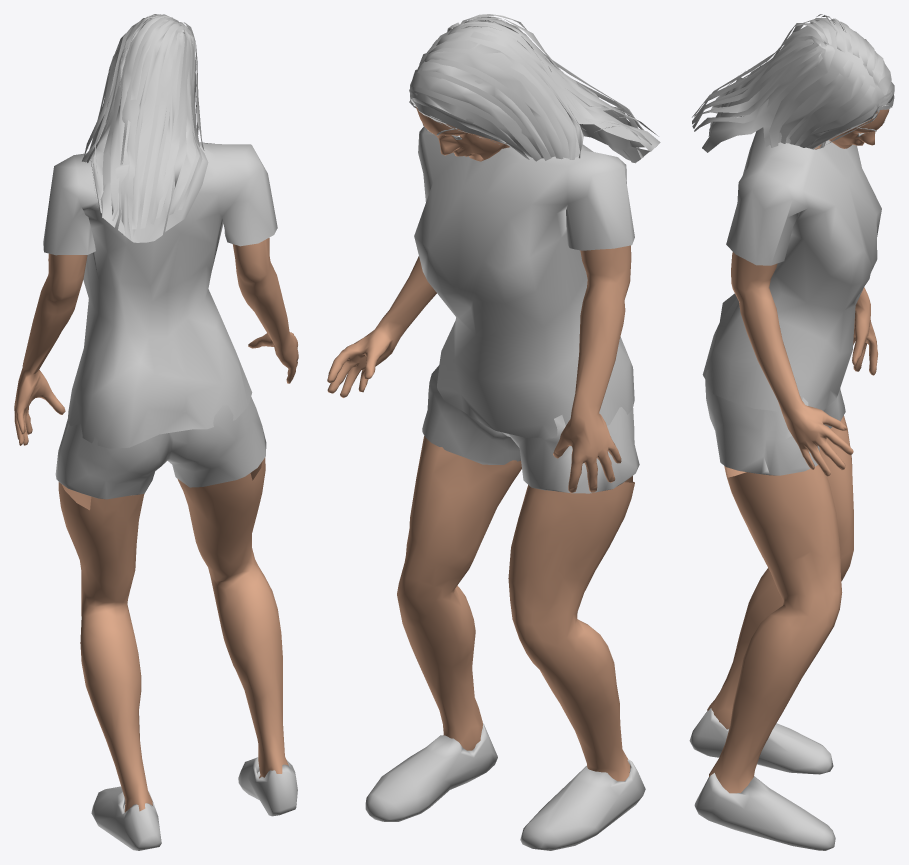
File: player2att_000002.obj
3 views of the same model, side by side, from view 1: azimuth 30°, elevation 25°; view 2: azimuth 150°, elevation 25°; view 3: azimuth 270°, elevation 25° (orthographic). The views are drawn at different scales.
Visible parts, largest first — view 1: player2:tshirt02, player2:Body, player2:fhair01, player2:short01, player2:shoes02; view 2: player2:Body, player2:tshirt02, player2:fhair01, player2:shoes02, player2:short01; view 3: player2:Body, player2:tshirt02, player2:fhair01, player2:shoes02, player2:short01.
Boxes of the visible parts, x1,y1,x2,y2 form: player2:tshirt02: (43,142,277,448); player2:Body: (14,238,298,812); player2:fhair01: (82,14,208,242); player2:short01: (55,397,266,499); player2:shoes02: (91,757,297,850); player2:Body: (327,106,634,781); player2:tshirt02: (414,127,634,438); player2:fhair01: (409,14,660,163); player2:shoes02: (365,723,645,850); player2:short01: (422,365,639,493); player2:Body: (707,109,889,793); player2:tshirt02: (702,127,881,411); player2:fhair01: (692,14,894,152); player2:shoes02: (689,708,835,850); player2:short01: (705,369,845,475).
Bounding box in the file's own units: 5.94 × 16.28 × 3.88.
